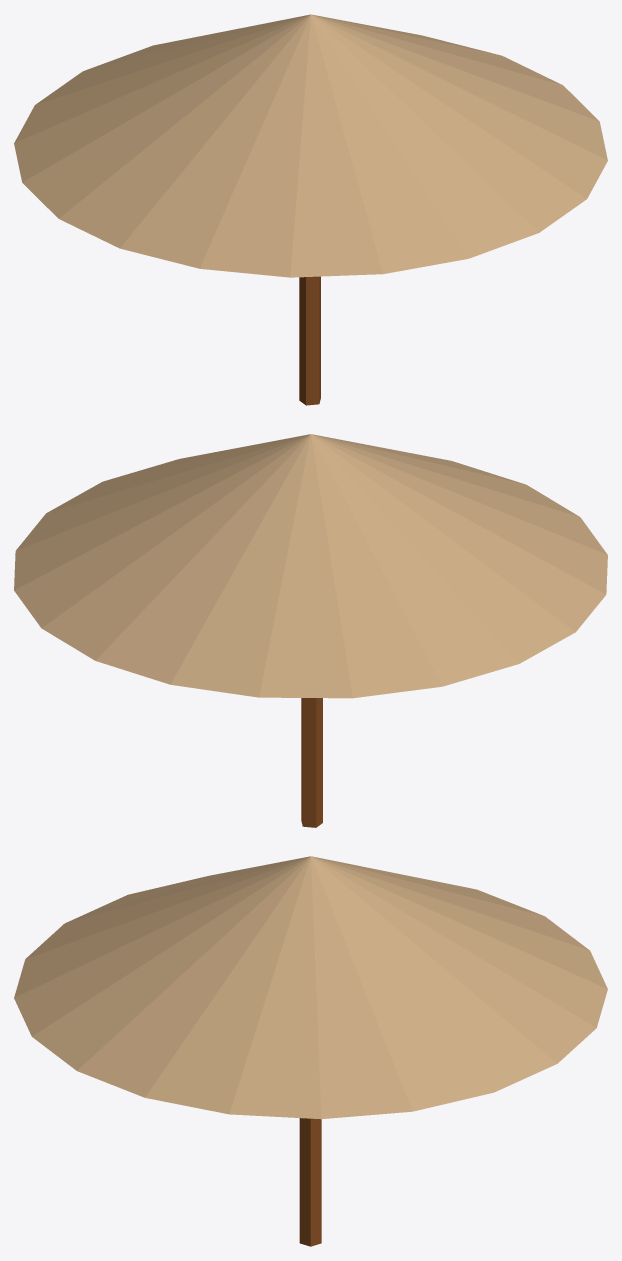
File: Prop_Umbrella_Wood_Thatch_Paper_01.fbx
3 views of the same model, one above another, from view 1: azimuth 30°, elevation 25°; view 2: azimuth 150°, elevation 25°; view 3: azimuth 270°, elevation 25° (orthographic).
Parts seen in each view (by area): view 1: Prop_Umbrella_Wood_Thatch_Paper_01; view 2: Prop_Umbrella_Wood_Thatch_Paper_01; view 3: Prop_Umbrella_Wood_Thatch_Paper_01.
Part boxes in pixels (x1,y1,x2,y2): Prop_Umbrella_Wood_Thatch_Paper_01: (14, 14, 607, 405); Prop_Umbrella_Wood_Thatch_Paper_01: (14, 434, 607, 827); Prop_Umbrella_Wood_Thatch_Paper_01: (14, 856, 607, 1246).
Bounding box in the file's own units: 3430 × 2458 × 3430.
